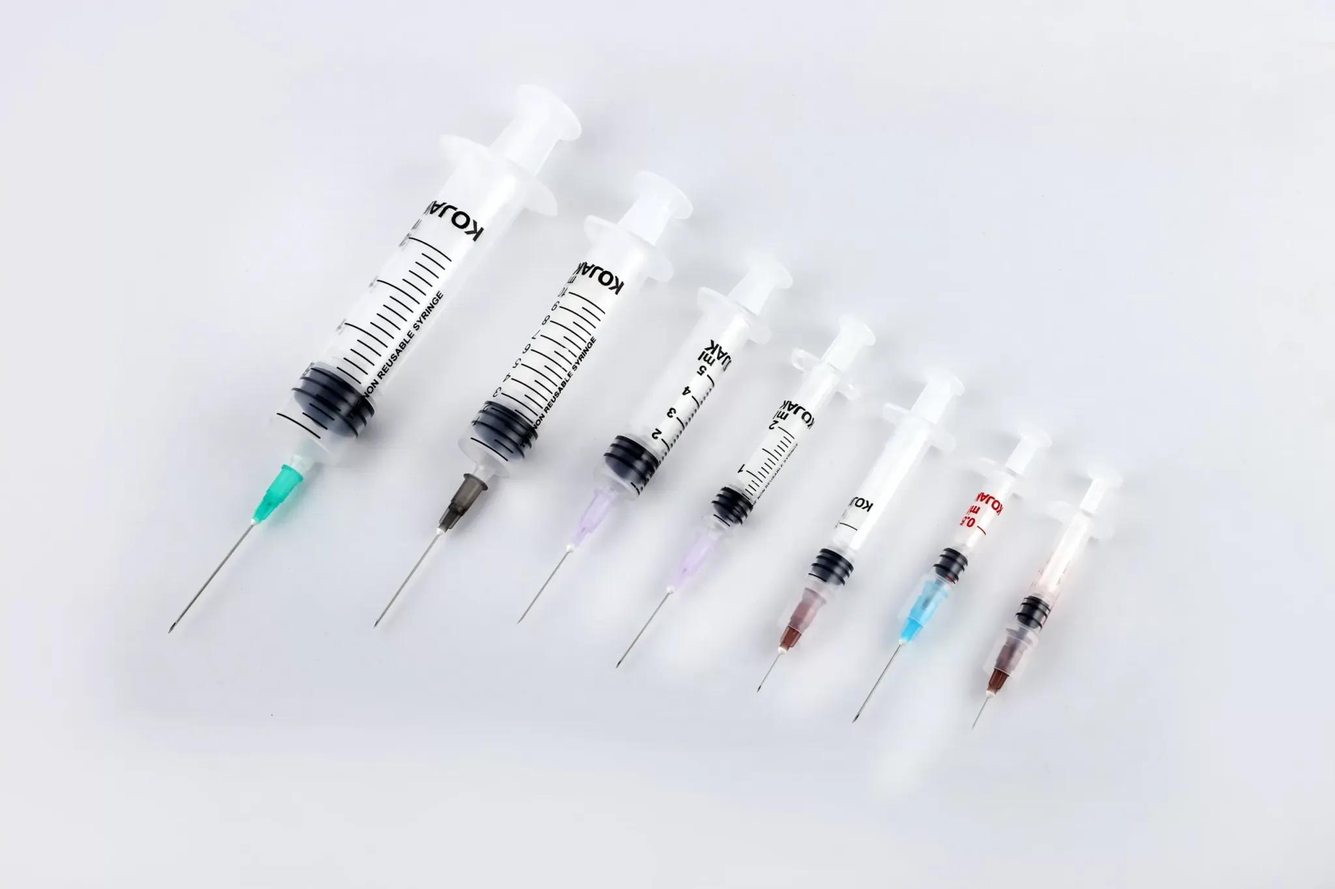Syringe: (169, 86, 579, 631), (375, 173, 691, 625), (519, 251, 791, 621), (617, 316, 874, 666), (757, 371, 963, 691), (853, 430, 1049, 720), (973, 470, 1121, 725)
